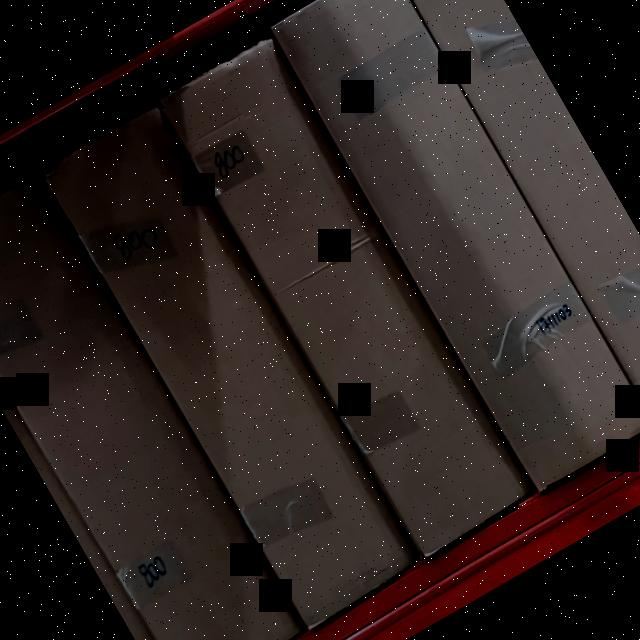box: (43, 105, 421, 628), (162, 38, 534, 556), (272, 0, 640, 490), (0, 174, 306, 640)
